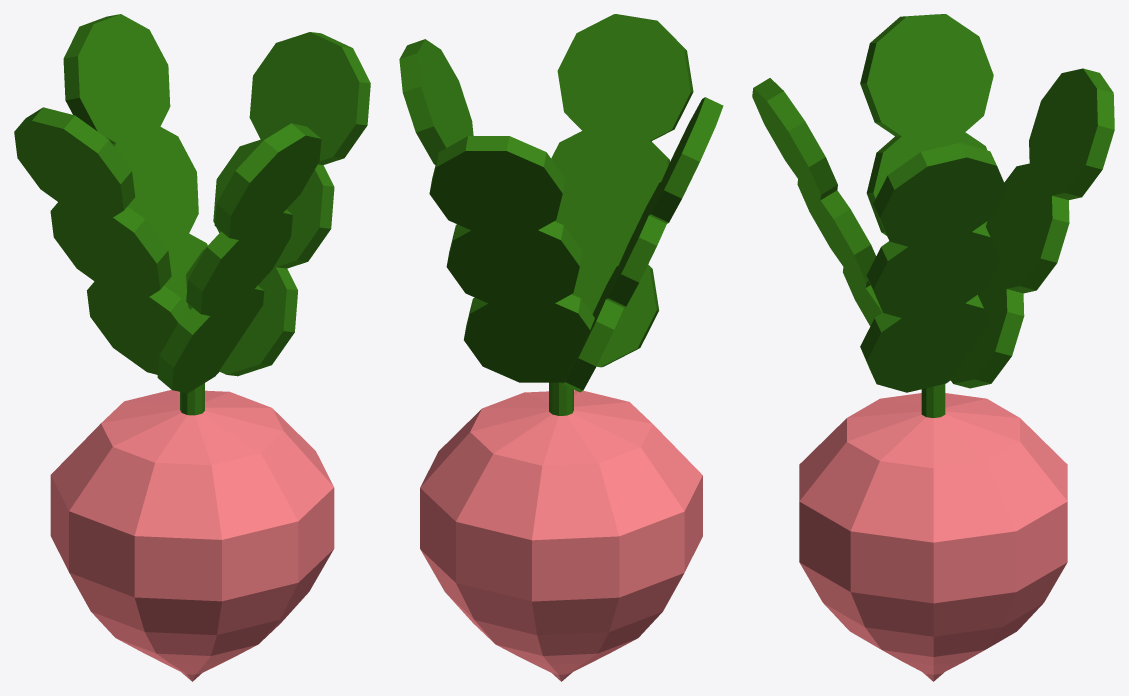
File: radish1.gltf
3 renders of one model, left to right at view 1: azimuth 30°, elevation 25°; view 2: azimuth 150°, elevation 25°; view 3: azimuth 270°, elevation 25°, orthographic.
Visible parts, largest first — view 1: model1.296, model1.297; view 2: model1.296, model1.297; view 3: model1.296, model1.297.
Part boxes in pixels (x1=…): model1.296: x1=14, y1=14, x2=370, y2=415; model1.297: x1=50, y1=390, x2=334, y2=681; model1.296: x1=399, y1=14, x2=723, y2=415; model1.297: x1=420, y1=390, x2=702, y2=681; model1.296: x1=752, y1=14, x2=1114, y2=417; model1.297: x1=799, y1=393, x2=1067, y2=681.
Size of the model in its own units: 3.1 by 5.69 by 3.1.
